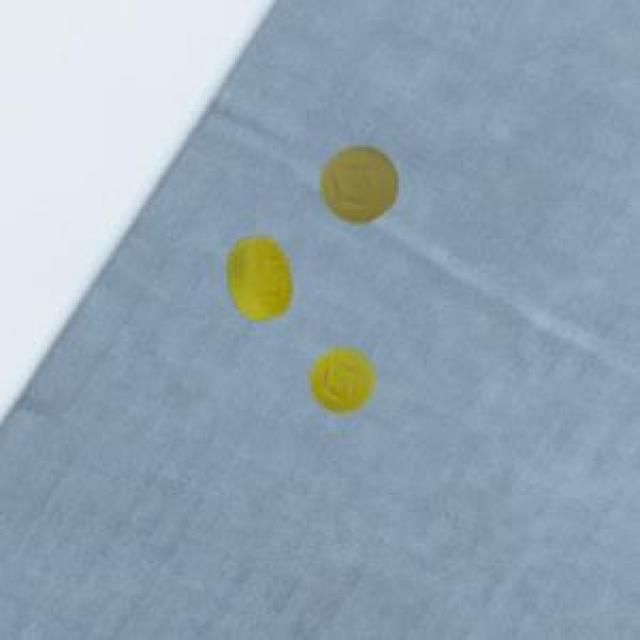Decolgen: (211, 227, 301, 338), (316, 137, 408, 226), (300, 339, 390, 420)
